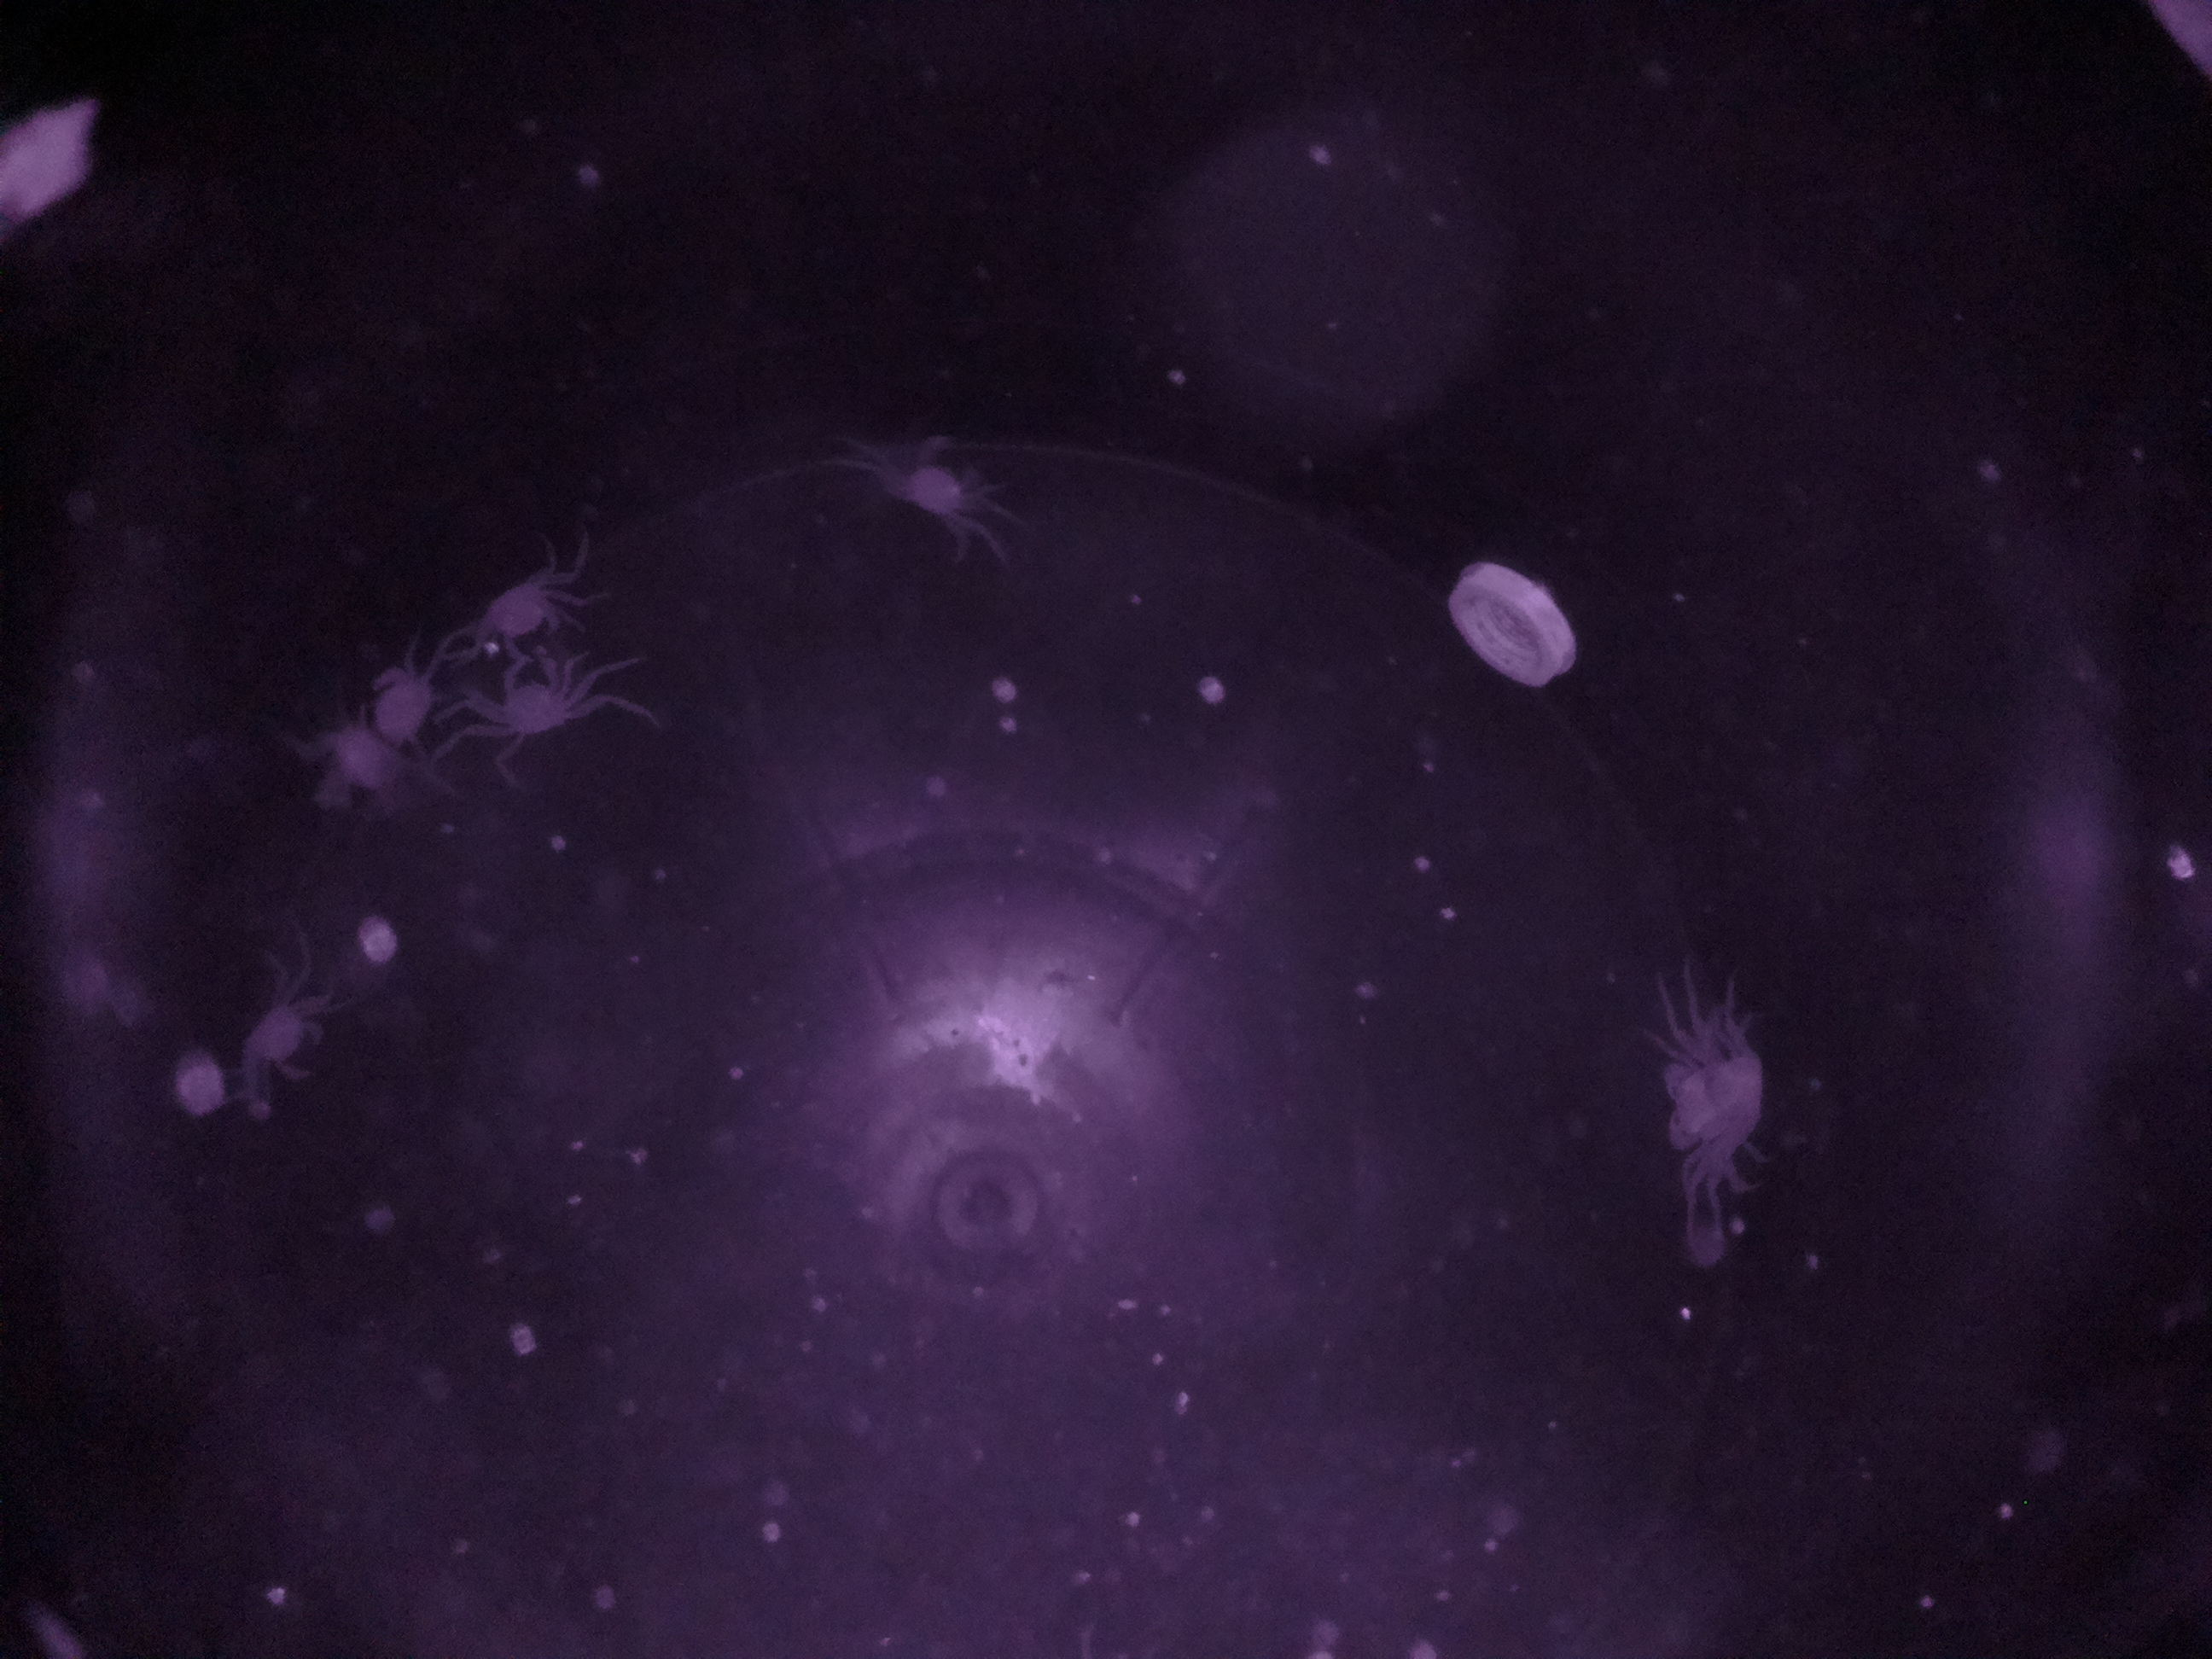Crab: (1618, 1028, 1791, 1178), (477, 636, 601, 758)
